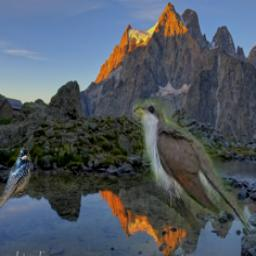Cuckoo: (132, 99, 256, 242)
Swallow: (0, 145, 30, 211)
